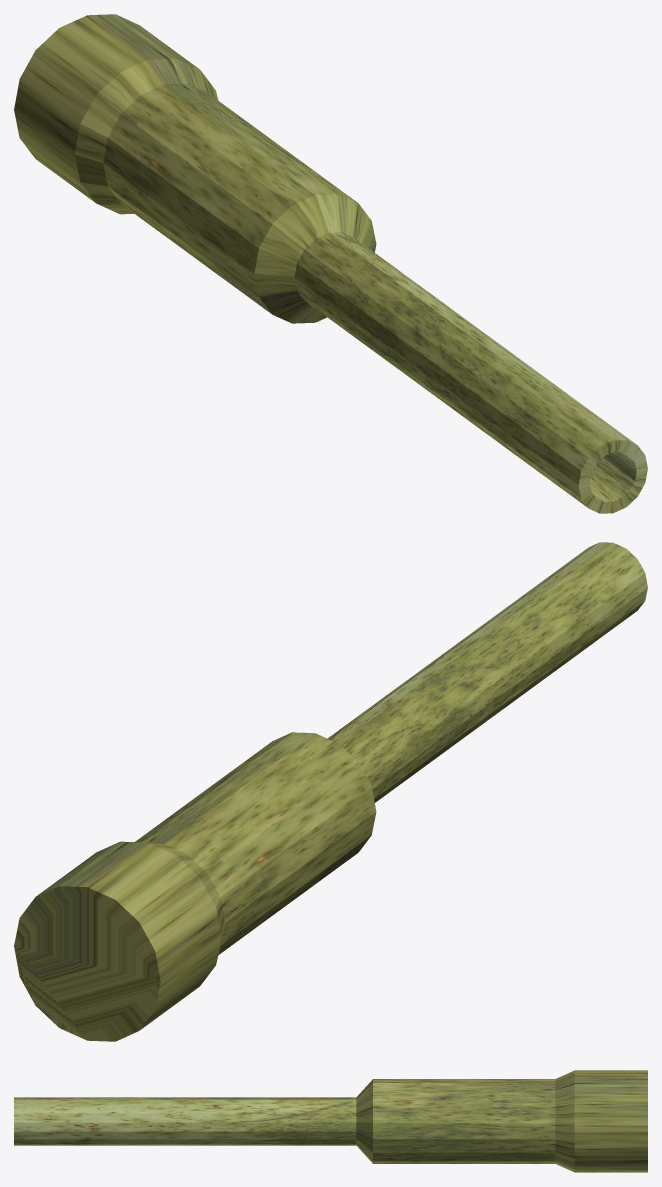
Rendered from Дуло.FBX.
3 views of the same model, one above another, from view 1: azimuth 30°, elevation 25°; view 2: azimuth 150°, elevation 25°; view 3: azimuth 270°, elevation 25° (orthographic). The views are drawn at different scales.
Parts seen in each view (by area): view 1: Дуло; view 2: Дуло; view 3: Дуло.
Boxes of the visible parts, <box> form: Дуло: <box>14,14,647,513</box>; Дуло: <box>14,542,647,1041</box>; Дуло: <box>14,1070,647,1172</box>.
Bounding box in the file's own units: 0.3069 × 0.3069 × 1.9.
